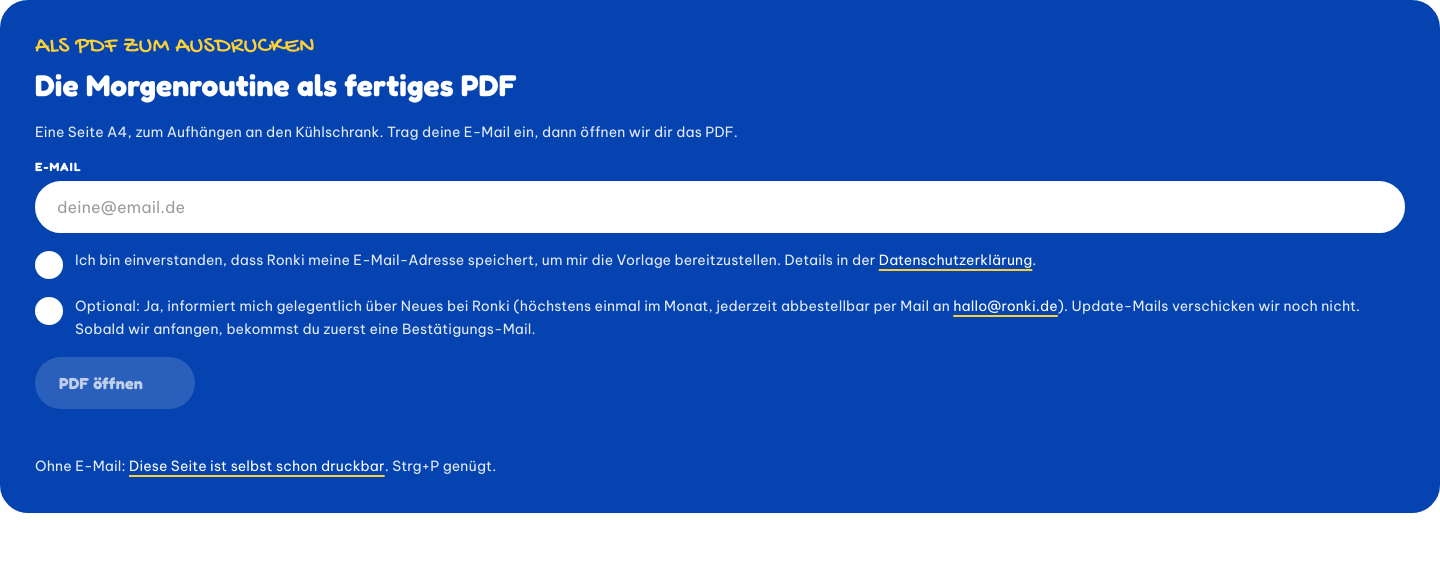
Test case: VorlageDownload › shows the friendly server message on failure
This screenshot has width=1440, height=566.
Step 1. Type "marc@example.com" into the field labelled "E-Mail" → (720, 207), box [35,181,1405,233]
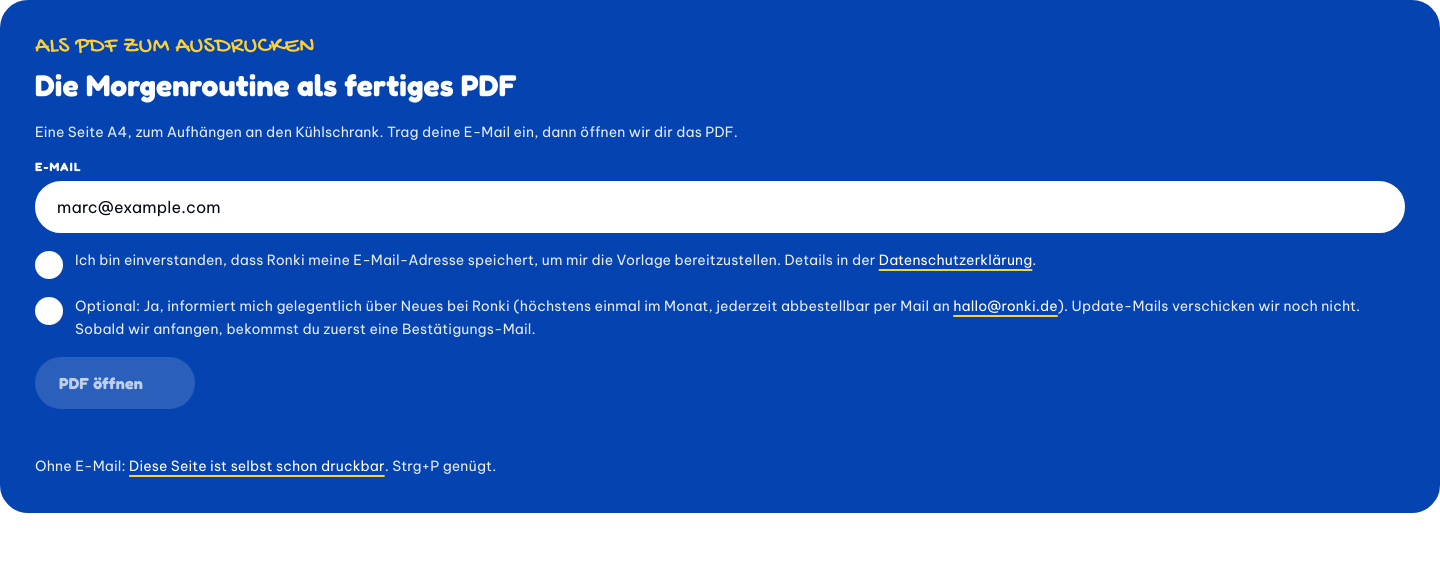
Step 2. Click the 1st checkbox → (49, 265), box [35,251,63,279]
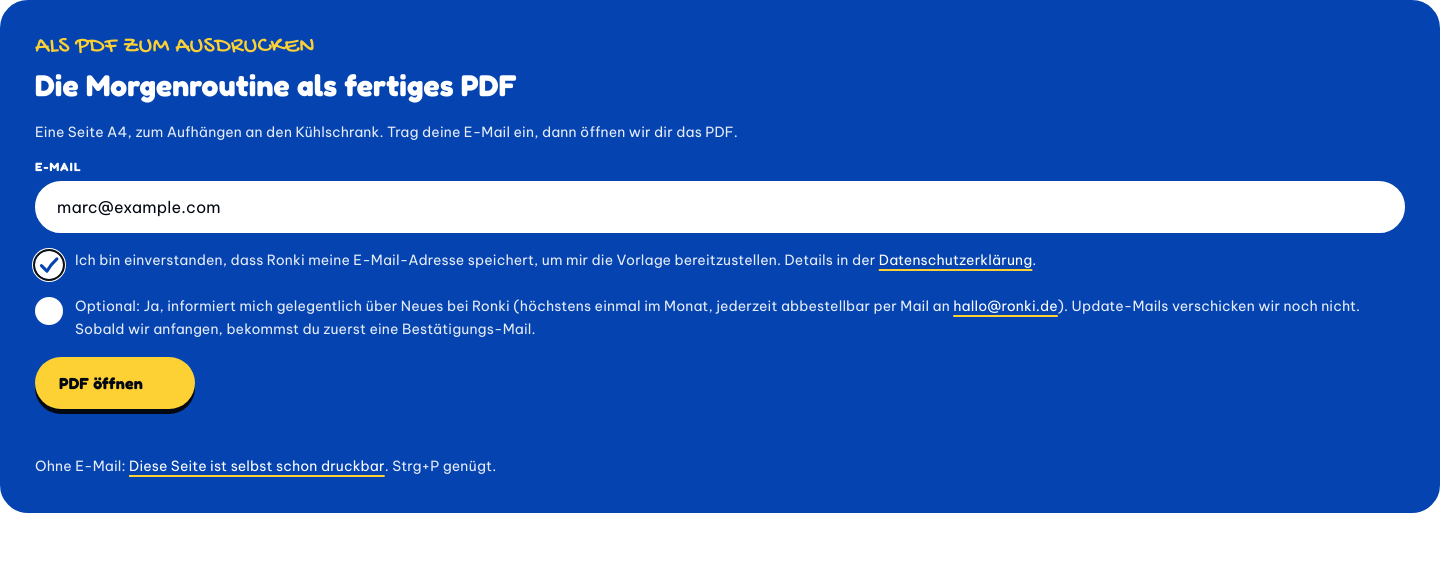
Step 3. Click the button "PDF öffnen" → (115, 383), box [35,357,195,409]
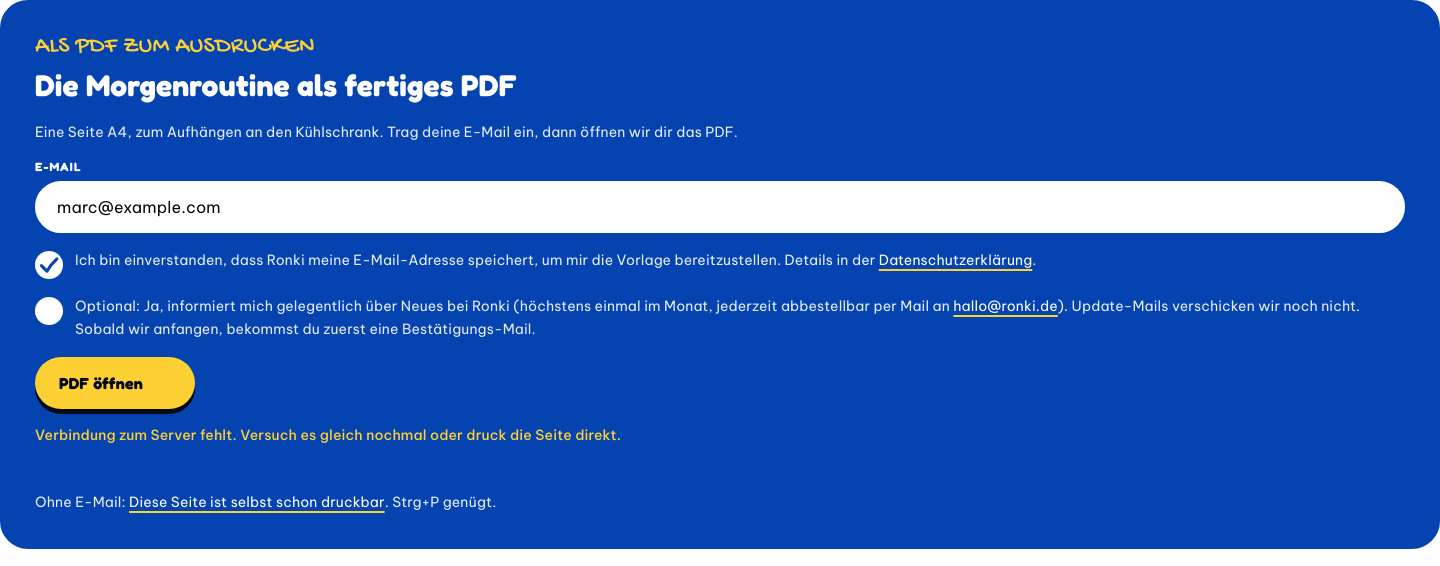
Result: the message shows "Verbindung zum Server fehlt" at [35,426,621,444]
